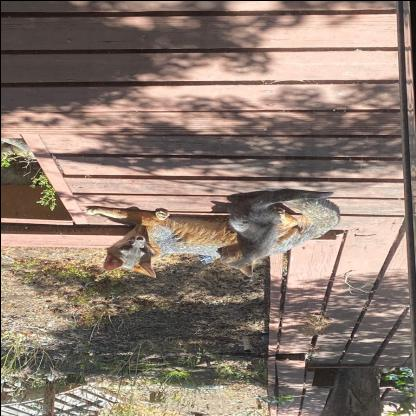zorro: (76, 184, 352, 284), (214, 182, 339, 280)
